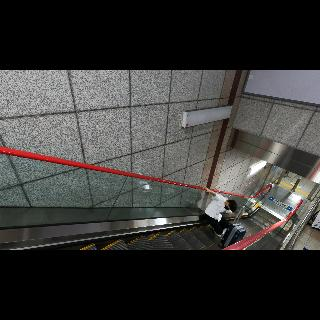normal: (202, 184, 244, 242)
